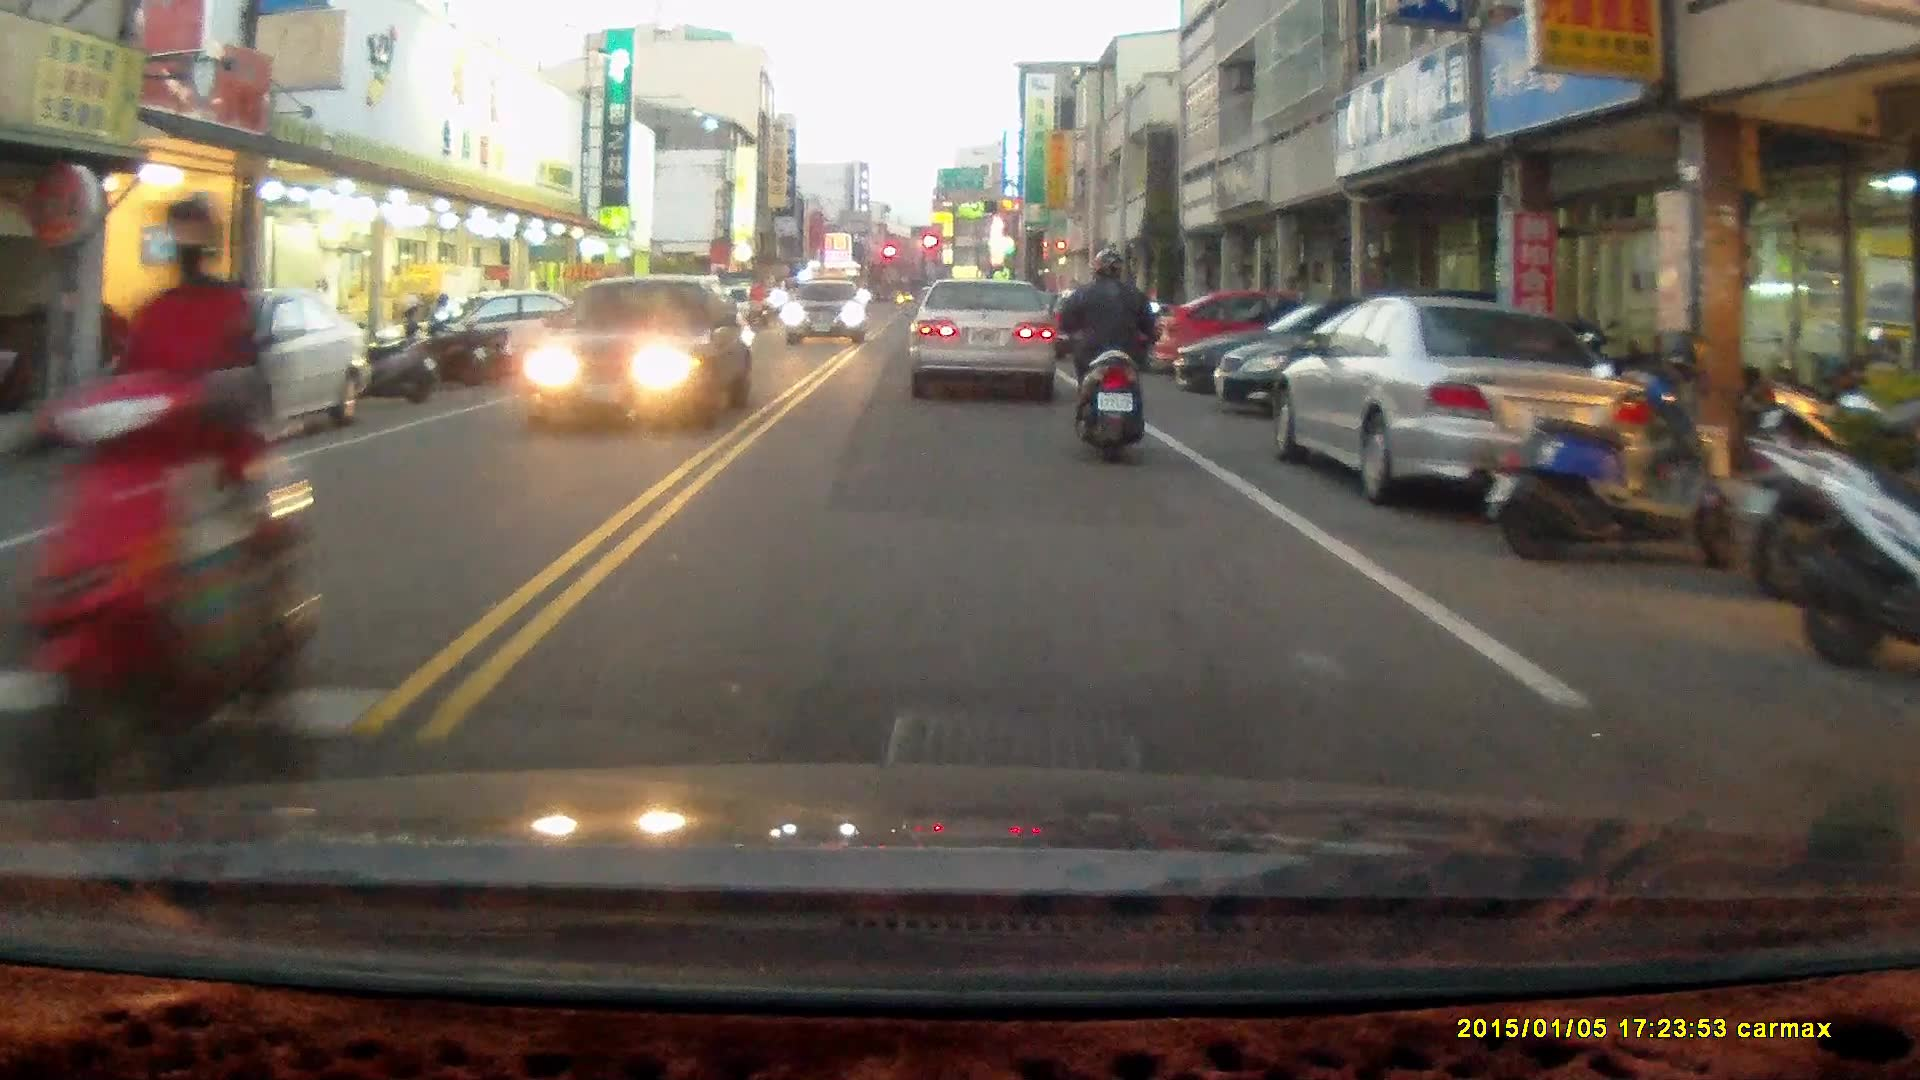rider: (32, 179, 317, 802), (1052, 247, 1162, 464), (744, 274, 767, 331)
vehicle: (1268, 296, 1650, 511), (74, 287, 368, 456), (1212, 297, 1516, 430), (524, 273, 753, 438), (1170, 308, 1482, 399), (1155, 296, 1389, 386), (905, 279, 1060, 401), (422, 293, 596, 382), (784, 288, 869, 354)
